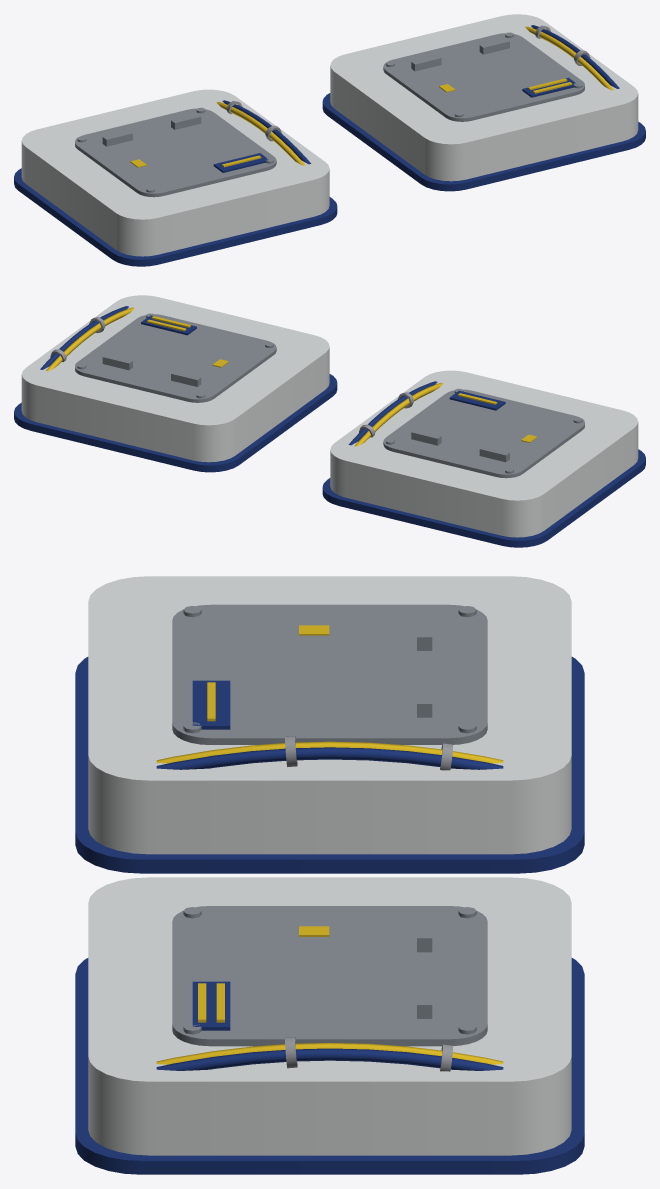
The model's file is mo4_autodoc.obj.
3 views of the same model, one above another, from view 1: azimuth 30°, elevation 25°; view 2: azimuth 150°, elevation 25°; view 3: azimuth 270°, elevation 25° (orthographic). The views are drawn at different scales.
Parts seen in each view (by area): view 1: mo4_autodoc; view 2: mo4_autodoc; view 3: mo4_autodoc.
Boxes of the visible parts, x1,y1,x2,y2 form: mo4_autodoc: (14,14,645,266); mo4_autodoc: (14,295,645,547); mo4_autodoc: (75,576,584,1174).
Size of the model in its own units: 2.4 by 0.2507 by 1.
